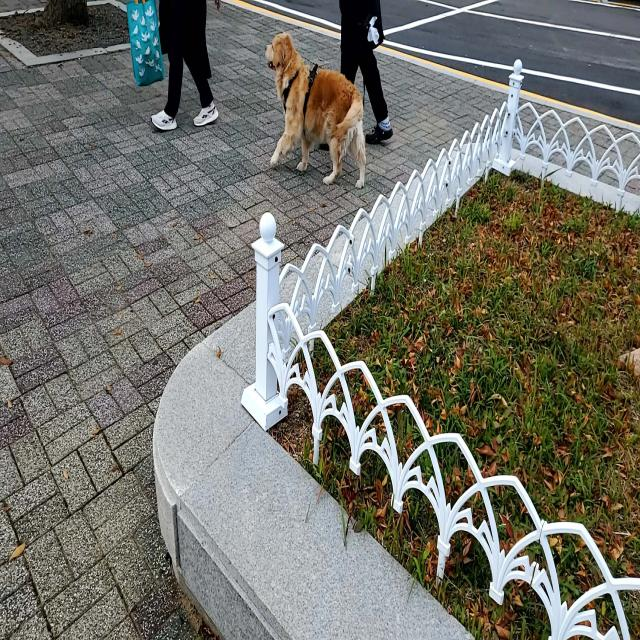Leashed_Dog: (265, 0, 393, 189)
